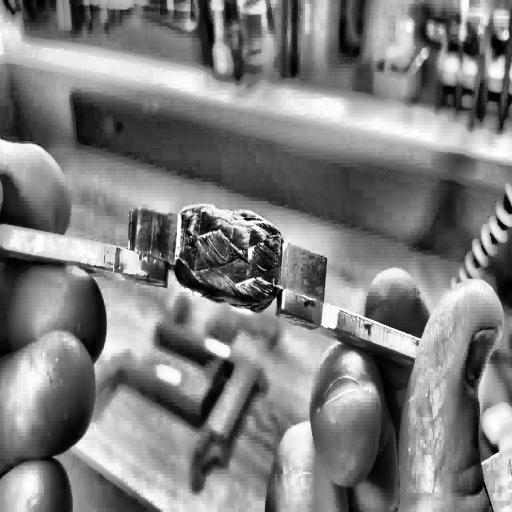busbar: (0, 188, 462, 382)
